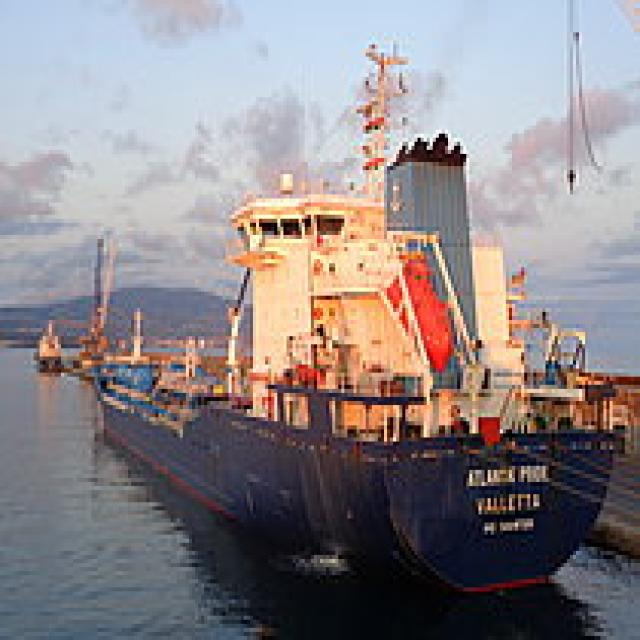Tanker: (94, 36, 618, 592)
